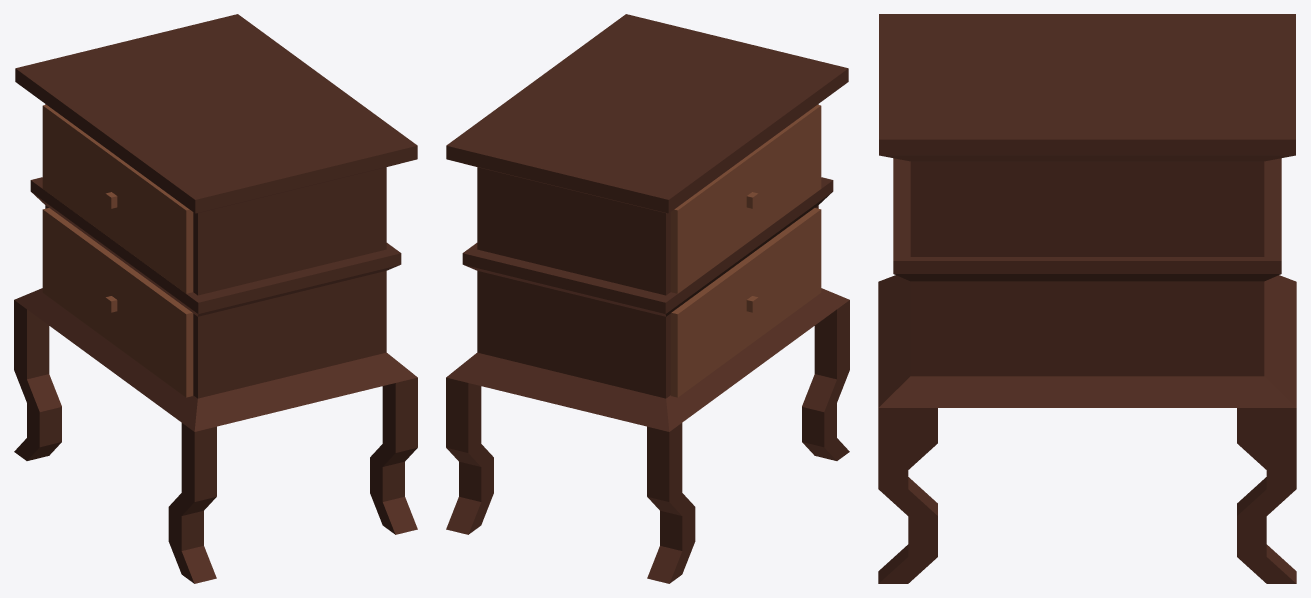
Rendered from Comoda.fbx.
3 renders of one model, left to right at view 1: azimuth 30°, elevation 25°; view 2: azimuth 150°, elevation 25°; view 3: azimuth 270°, elevation 25°, orthographic. The views are drawn at different scales.
Visible parts, largest first — view 1: Comoda, GavetaLower, GavetaUpper; view 2: Comoda, GavetaLower, GavetaUpper; view 3: Comoda.
Part boxes in pixels (left/top/right/bottom): Comoda: left=14, top=14, right=417, bottom=583; GavetaLower: left=42, top=208, right=193, bottom=397; GavetaUpper: left=42, top=104, right=193, bottom=293; Comoda: left=446, top=14, right=849, bottom=583; GavetaLower: left=670, top=208, right=821, bottom=397; GavetaUpper: left=670, top=104, right=821, bottom=293; Comoda: left=878, top=14, right=1296, bottom=583.
Size of the model in its own units: 2001 by 3281 by 2800.
